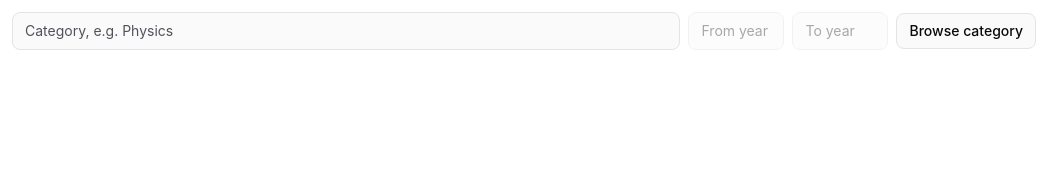
CategoryFilter › filters the dropdown as the category is typed
The image size is (1048, 178).
In the field labelled "Category": (346, 31) [12, 12, 680, 50], type "phy"
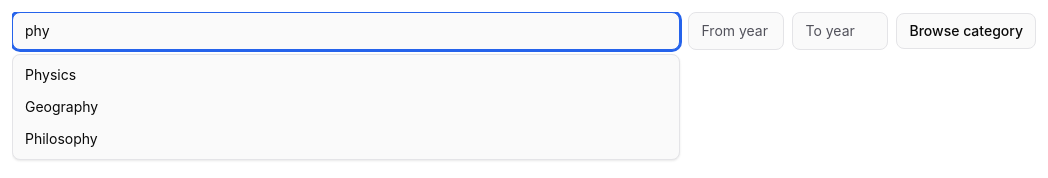
Expected: the button "Physics" is shown, [13, 59, 680, 91]
